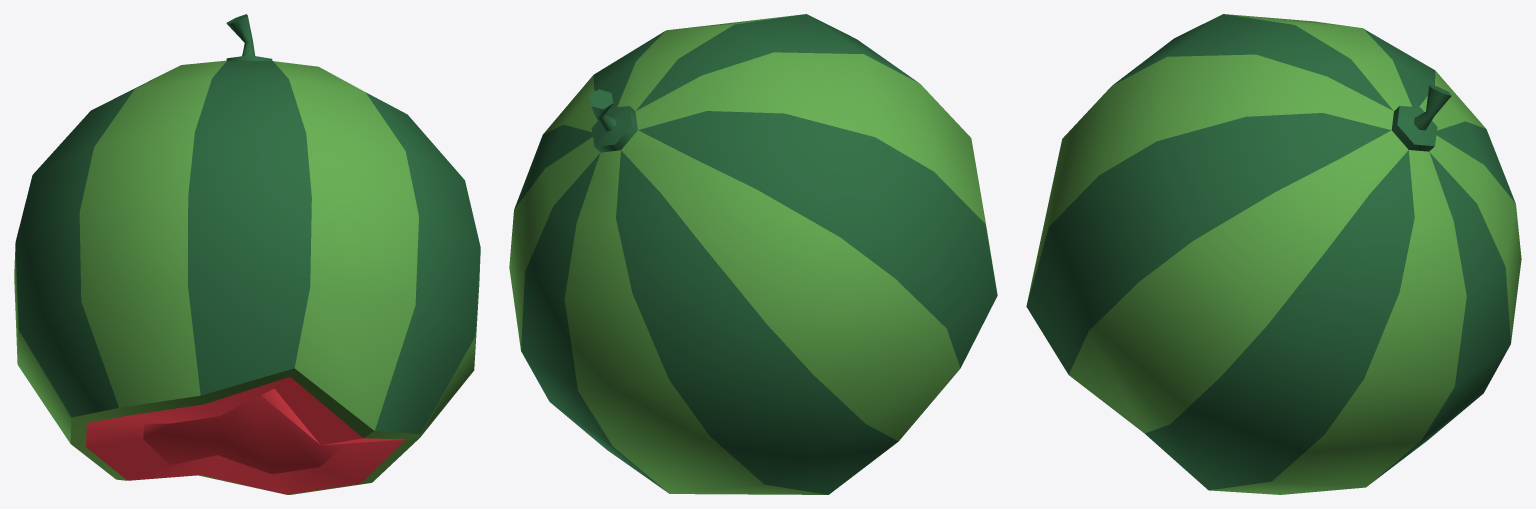
Rendered from Domik_Arbuz.fbx.
3 renders of one model, left to right at view 1: azimuth 30°, elevation 25°; view 2: azimuth 150°, elevation 25°; view 3: azimuth 270°, elevation 25°, orthographic. The views are drawn at different scales.
Parts seen in each view (by area): view 1: Sphere001; view 2: Sphere001; view 3: Sphere001.
Boxes of the visible parts, bbox=[...] form: Sphere001: bbox=[14, 14, 480, 494]; Sphere001: bbox=[509, 14, 997, 494]; Sphere001: bbox=[1026, 14, 1521, 494].
Bounding box in the file's own units: 572 × 560 × 578.
